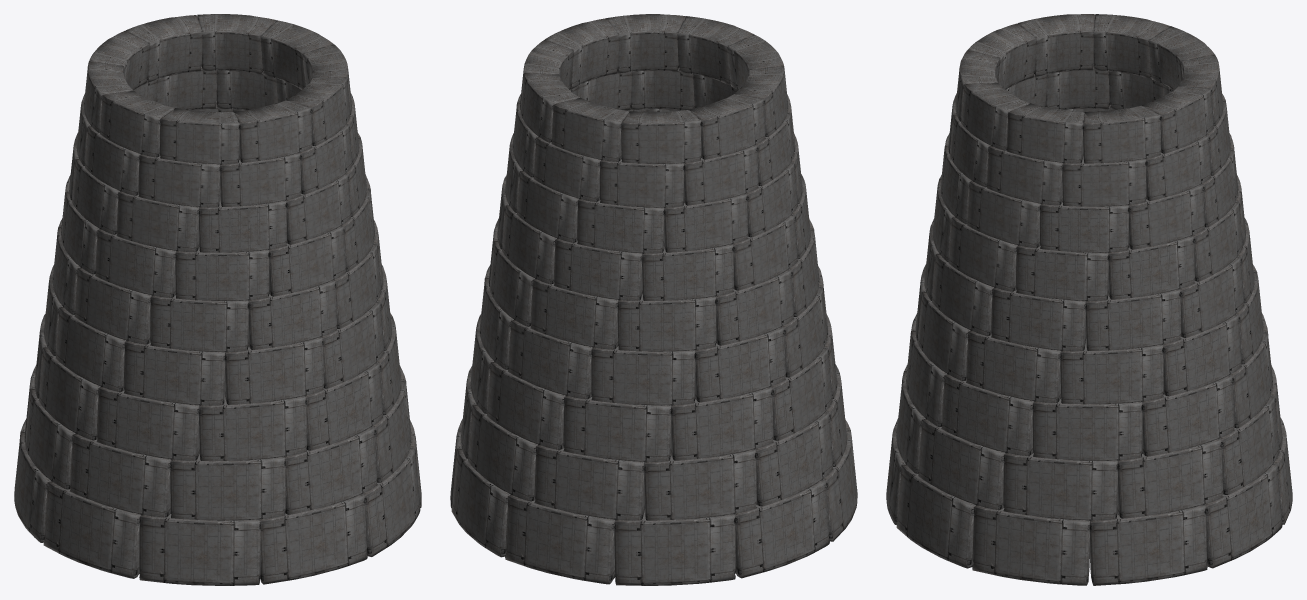
Rendered from megablocks_test.fbx.
3 views of the same model, side by side, from view 1: azimuth 30°, elevation 25°; view 2: azimuth 150°, elevation 25°; view 3: azimuth 270°, elevation 25° (orthographic).
Visible parts, largest first — view 1: LP.003; view 2: LP.003; view 3: LP.003.
Boxes of the visible parts, x1,y1,x2,y2 form: LP.003: (14,14,421,585); LP.003: (450,14,857,585); LP.003: (886,14,1292,585).
Size of the model in its own units: 597 by 704 by 595.
